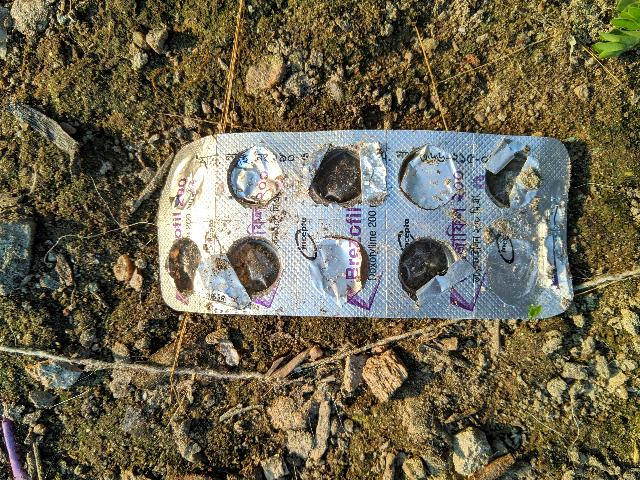medicine: (140, 119, 597, 348)
